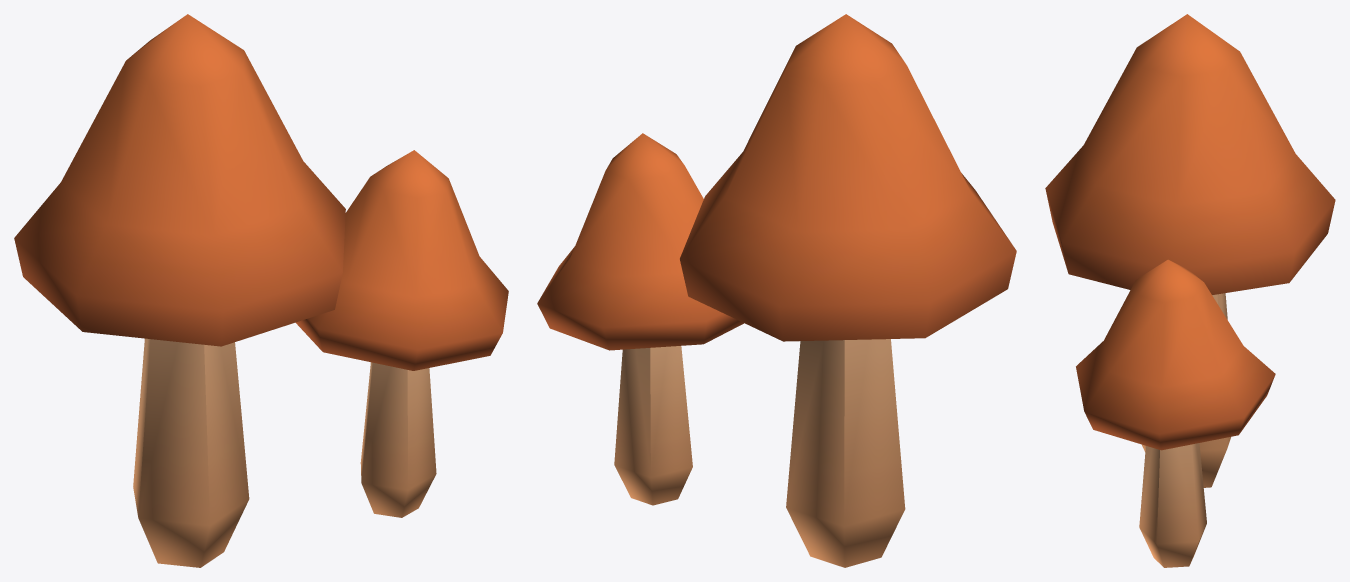
Rendered from mushroom_cluster_2.fbx.
3 renders of one model, left to right at view 1: azimuth 30°, elevation 25°; view 2: azimuth 150°, elevation 25°; view 3: azimuth 270°, elevation 25°, orthographic. The views are drawn at different scales.
Visible parts, largest first — view 1: mushroom_cluster_2.001; view 2: mushroom_cluster_2.001; view 3: mushroom_cluster_2.001.
Boxes of the visible parts, <box> form: mushroom_cluster_2.001: <box>14,14,508,567</box>; mushroom_cluster_2.001: <box>537,14,1016,567</box>; mushroom_cluster_2.001: <box>1045,14,1335,567</box>.
Size of the model in its own units: 0.3998 by 0.4622 by 0.2619.
